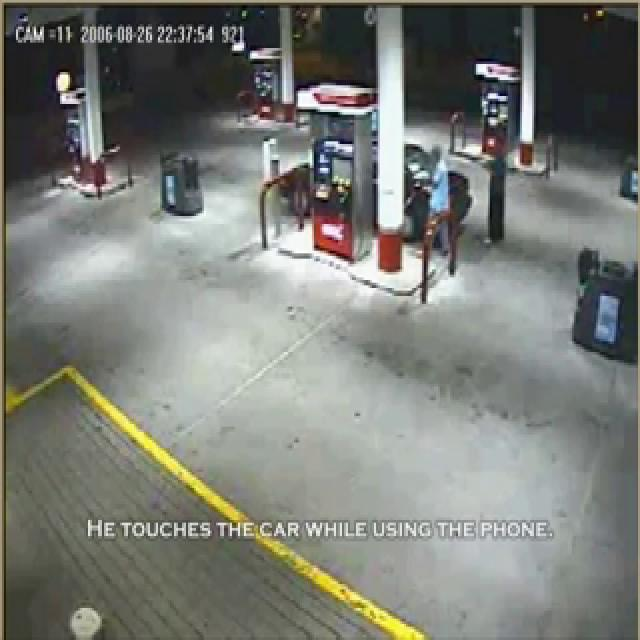explosion: (274, 0, 640, 640), (290, 90, 573, 354)
